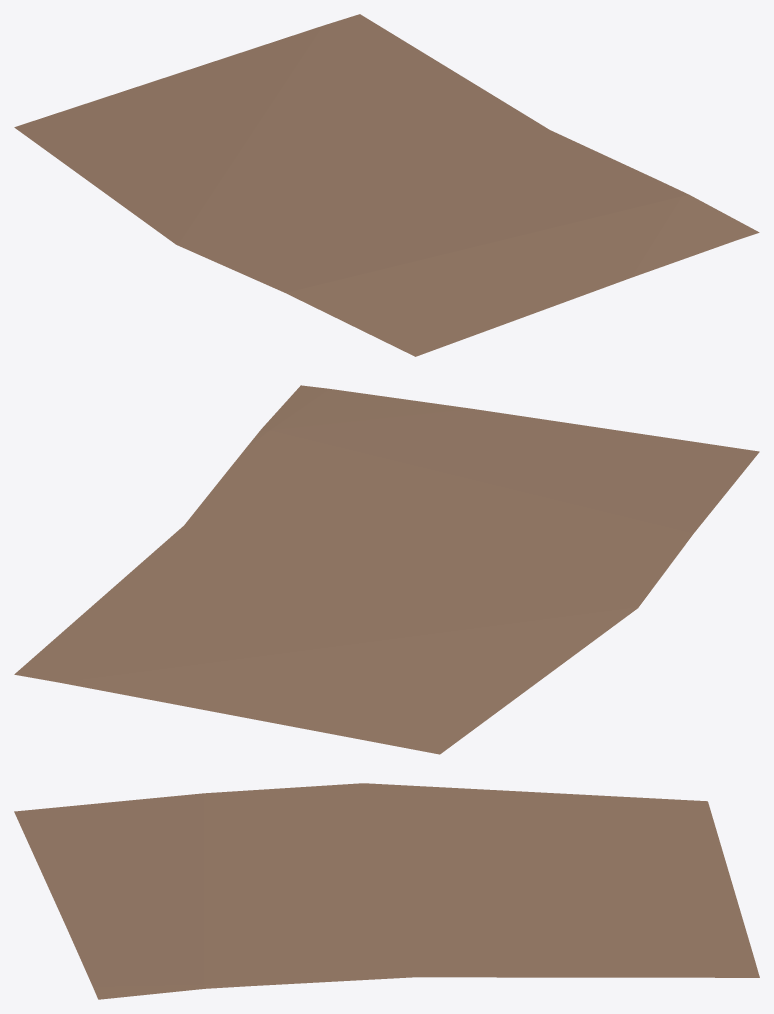
File: farm_31_36_soil.glb
The picture shows the model from 3 angles, top to bottom: view 1: azimuth 30°, elevation 25°; view 2: azimuth 150°, elevation 25°; view 3: azimuth 270°, elevation 25°; orthographic projection. The views are drawn at different scales.
Parts seen in each view (by area): view 1: geometry_0; view 2: geometry_0; view 3: geometry_0.
Boxes of the visible parts, x1,y1,x2,y2 form: geometry_0: (14,14,759,356); geometry_0: (14,385,759,754); geometry_0: (14,783,759,999).
Bounding box in the file's own units: 64.01 × 2.22 × 92.91.
